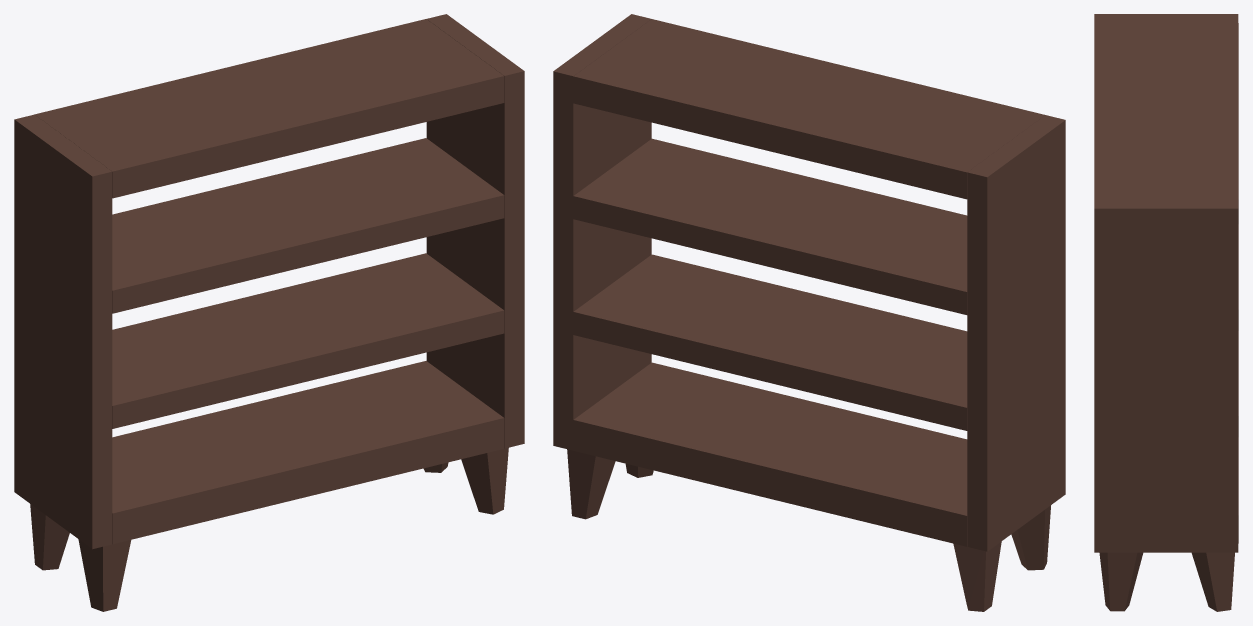
File: Bookshelf01.glb
The picture shows the model from 3 angles, left to right: view 1: azimuth 30°, elevation 25°; view 2: azimuth 150°, elevation 25°; view 3: azimuth 270°, elevation 25°; orthographic projection. The views are drawn at different scales.
Parts seen in each view (by area): view 1: Bookshelf01; view 2: Bookshelf01; view 3: Bookshelf01.
Part boxes in pixels (x1,y1,x2,y2): Bookshelf01: [14, 14, 524, 611]; Bookshelf01: [553, 14, 1065, 611]; Bookshelf01: [1094, 14, 1238, 611].
Size of the model in its own units: 1.6 by 1.56 by 0.5007.
